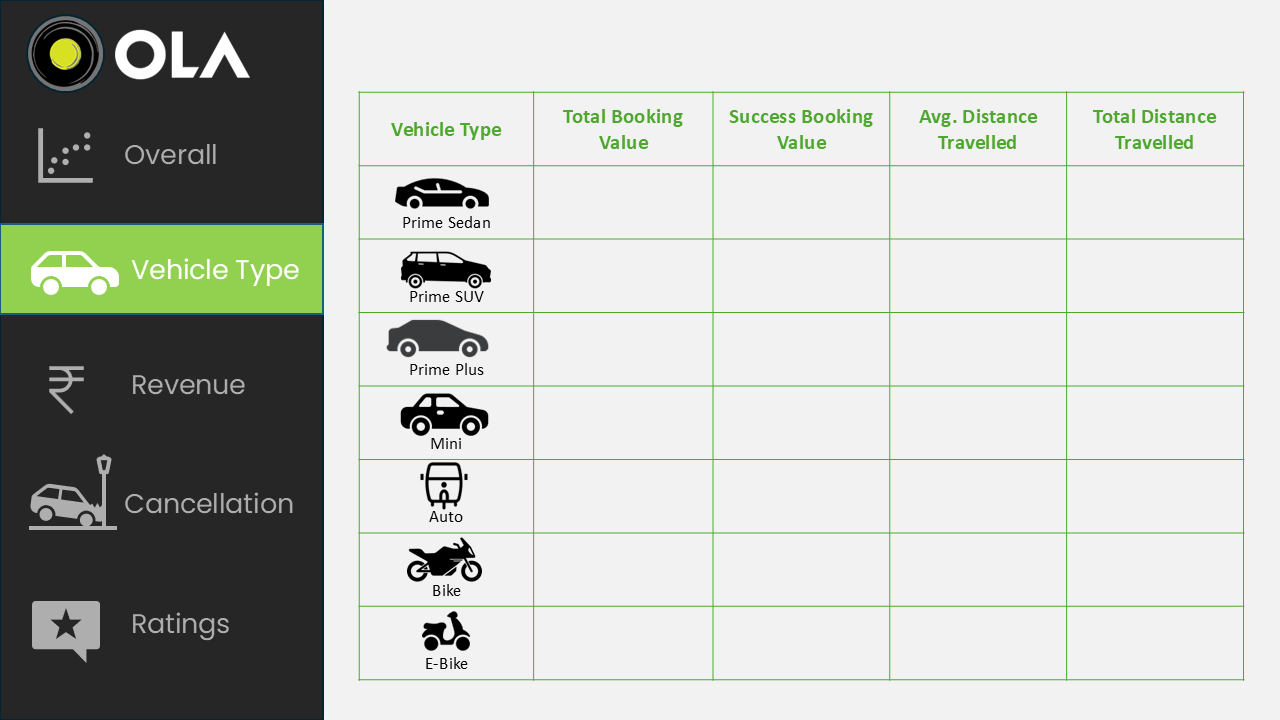

What the dashboard file says about the page in this screenshot:
{"tool":"powerbi","page":{"name":"VEHICLE TYPE","canvas":[1280,720],"ordinal":1},"visuals":[{"type":"actionButton","box":[0,100,325,121.7],"z":0},{"type":"actionButton","box":[0,310,325,143.3],"z":1000},{"type":"actionButton","box":[0,453.3,325,126.7],"z":2000},{"type":"actionButton","box":[0,580,325,140],"z":3000},{"type":"card","fields":{"Values":["Sum(July.Booking_Value)"]},"box":[536,160.7,171.8,73.2],"z":4000},{"type":"card","fields":{"Values":["Sum(July.Booking_Value)"]},"box":[536,233.8,171.8,76.3],"z":5000},{"type":"card","fields":{"Values":["Sum(July.Booking_Value)"]},"box":[536,310.2,171.8,71.6],"z":6000},{"type":"card","fields":{"Values":["Sum(July.Booking_Value)"]},"box":[536,381.7,171.8,71.6],"z":7000},{"type":"card","fields":{"Values":["Sum(July.Booking_Value)"]},"box":[536,453.3,171.8,74.8],"z":8000},{"type":"card","fields":{"Values":["Sum(July.Booking_Value)"]},"box":[536,528.1,171.8,79.5],"z":9000},{"type":"card","fields":{"Values":["Sum(July.Booking_Value)"]},"box":[523.3,607.6,184.5,73.2],"z":10000},{"type":"card","fields":{"Values":["Sum(July.Booking_Value)"]},"box":[707.8,160.7,162.2,73.2],"z":11000},{"type":"card","fields":{"Values":["Sum(July.Booking_Value)"]},"box":[707.8,233.8,162.2,76.3],"z":12000},{"type":"card","fields":{"Values":["Sum(July.Booking_Value)"]},"box":[707.8,528.1,162.2,79.5],"z":13000},{"type":"card","fields":{"Values":["Sum(July.Booking_Value)"]},"box":[709.4,453.3,162.2,74.8],"z":14000},{"type":"card","fields":{"Values":["Sum(July.Booking_Value)"]},"box":[709.4,381.7,162.2,71.6],"z":15000},{"type":"card","fields":{"Values":["Sum(July.Booking_Value)"]},"box":[709.4,310.2,162.2,71.6],"z":16000},{"type":"card","fields":{"Values":["Sum(July.Booking_Value)"]},"box":[709.4,607.6,162.2,73.2],"z":17000},{"type":"card","fields":{"Values":["Avg(July.Ride_Distance)"]},"box":[883.3,173.3,161.7,60],"z":18000},{"type":"card","fields":{"Values":["Avg(July.Ride_Distance)"]},"box":[883.3,250,161.7,60],"z":19000},{"type":"card","fields":{"Values":["Avg(July.Ride_Distance)"]},"box":[885,393.3,161.7,60],"z":20000},{"type":"card","fields":{"Values":["Avg(July.Ride_Distance)"]},"box":[883.3,468.3,161.7,60],"z":21000},{"type":"card","fields":{"Values":["Avg(July.Ride_Distance)"]},"box":[883.3,550,161.7,60],"z":22000},{"type":"card","fields":{"Values":["Avg(July.Ride_Distance)"]},"box":[883.3,620,161.7,60],"z":23000},{"type":"card","fields":{"Values":["Avg(July.Ride_Distance)"]},"box":[883.3,321.7,161.7,60],"z":24000},{"type":"card","fields":{"Values":["Sum(July.Ride_Distance)"]},"box":[1064.1,160.7,160.7,73.2],"z":25000},{"type":"card","fields":{"Values":["Sum(July.Ride_Distance)"]},"box":[1065.7,233.8,160.7,76.3],"z":26000},{"type":"card","fields":{"Values":["Sum(July.Ride_Distance)"]},"box":[1064.1,305.4,160.7,76.3],"z":27000},{"type":"card","fields":{"Values":["Sum(July.Ride_Distance)"]},"box":[1064.1,381.7,160.7,71.6],"z":28000},{"type":"card","fields":{"Values":["Sum(July.Ride_Distance)"]},"box":[1064.1,453.3,160.7,74.8],"z":29000},{"type":"card","fields":{"Values":["Sum(July.Ride_Distance)"]},"box":[1064.1,528.1,160.7,68.4],"z":30000},{"type":"card","fields":{"Values":["Sum(July.Ride_Distance)"]},"box":[1064.1,607.6,160.7,73.2],"z":31000},{"type":"slicer","title":"DATE","fields":{"Values":["July.Date"]},"box":[890.1,0,352.2,87.2],"z":32000}]}

Visuals, with their boxes on the page's 1280x720 design canvas (x1, y1, x2, y2). These are canvas units, not pixel positions in the 1280x720 screenshot, which may show the page scaled, cropped or inside an application window:
actionButton: region(0, 100, 325, 222)
actionButton: region(0, 310, 325, 453)
actionButton: region(0, 453, 325, 580)
actionButton: region(0, 580, 325, 720)
card - Sum(July.Booking_Value): region(536, 161, 708, 234)
card - Sum(July.Booking_Value): region(536, 234, 708, 310)
card - Sum(July.Booking_Value): region(536, 310, 708, 382)
card - Sum(July.Booking_Value): region(536, 382, 708, 453)
card - Sum(July.Booking_Value): region(536, 453, 708, 528)
card - Sum(July.Booking_Value): region(536, 528, 708, 608)
card - Sum(July.Booking_Value): region(523, 608, 708, 681)
card - Sum(July.Booking_Value): region(708, 161, 870, 234)
card - Sum(July.Booking_Value): region(708, 234, 870, 310)
card - Sum(July.Booking_Value): region(708, 528, 870, 608)
card - Sum(July.Booking_Value): region(709, 453, 872, 528)
card - Sum(July.Booking_Value): region(709, 382, 872, 453)
card - Sum(July.Booking_Value): region(709, 310, 872, 382)
card - Sum(July.Booking_Value): region(709, 608, 872, 681)
card - Avg(July.Ride_Distance): region(883, 173, 1045, 233)
card - Avg(July.Ride_Distance): region(883, 250, 1045, 310)
card - Avg(July.Ride_Distance): region(885, 393, 1047, 453)
card - Avg(July.Ride_Distance): region(883, 468, 1045, 528)
card - Avg(July.Ride_Distance): region(883, 550, 1045, 610)
card - Avg(July.Ride_Distance): region(883, 620, 1045, 680)
card - Avg(July.Ride_Distance): region(883, 322, 1045, 382)
card - Sum(July.Ride_Distance): region(1064, 161, 1225, 234)
card - Sum(July.Ride_Distance): region(1066, 234, 1226, 310)
card - Sum(July.Ride_Distance): region(1064, 305, 1225, 382)
card - Sum(July.Ride_Distance): region(1064, 382, 1225, 453)
card - Sum(July.Ride_Distance): region(1064, 453, 1225, 528)
card - Sum(July.Ride_Distance): region(1064, 528, 1225, 596)
card - Sum(July.Ride_Distance): region(1064, 608, 1225, 681)
"DATE" slicer: region(890, 0, 1242, 87)
